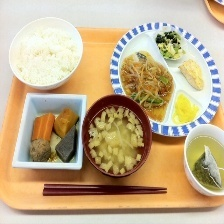rice: (8, 20, 79, 85)
